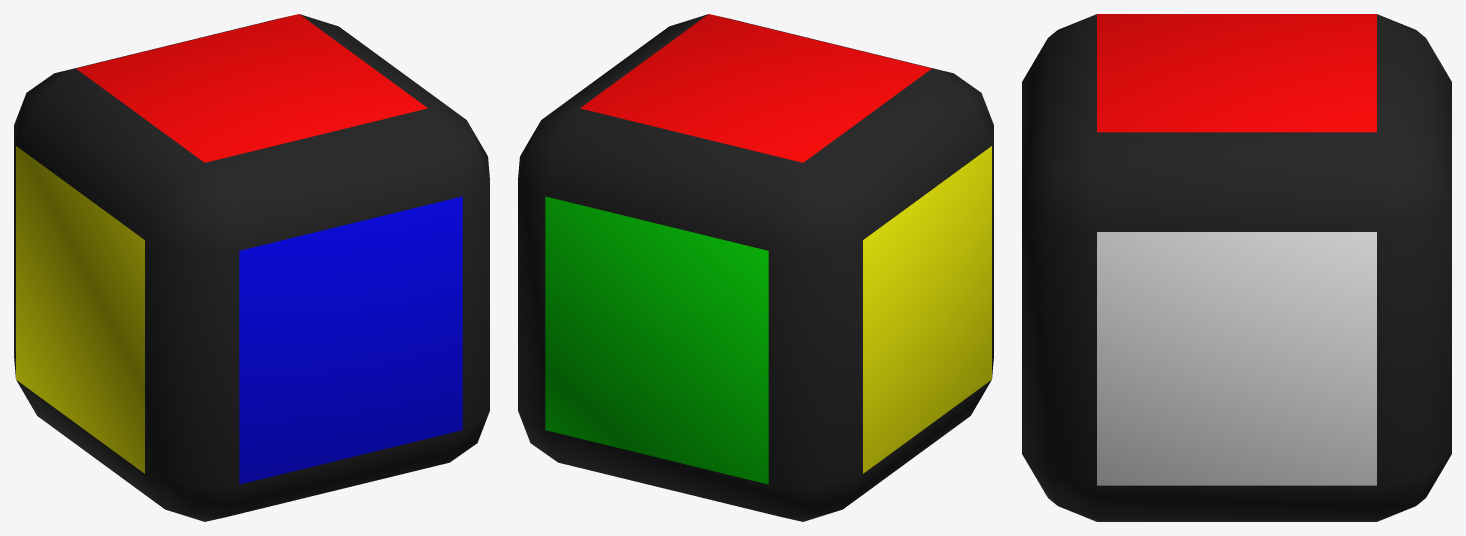
File: testblock.fbx
3 renders of one model, left to right at view 1: azimuth 30°, elevation 25°; view 2: azimuth 150°, elevation 25°; view 3: azimuth 270°, elevation 25°, orthographic. The views are drawn at different scales.
Visible parts, largest first — view 1: Cube; view 2: Cube; view 3: Cube.
Part boxes in pixels (x1=…): Cube: x1=14, y1=14, x2=489, y2=521; Cube: x1=518, y1=14, x2=993, y2=521; Cube: x1=1022, y1=14, x2=1451, y2=521.
Bounding box in the file's own units: 1 × 1 × 1.
